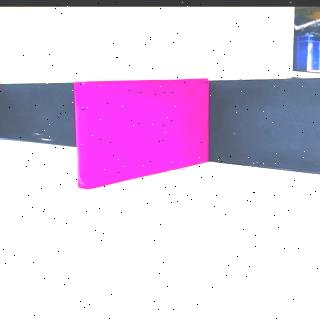xparking: (76, 82, 208, 163)
